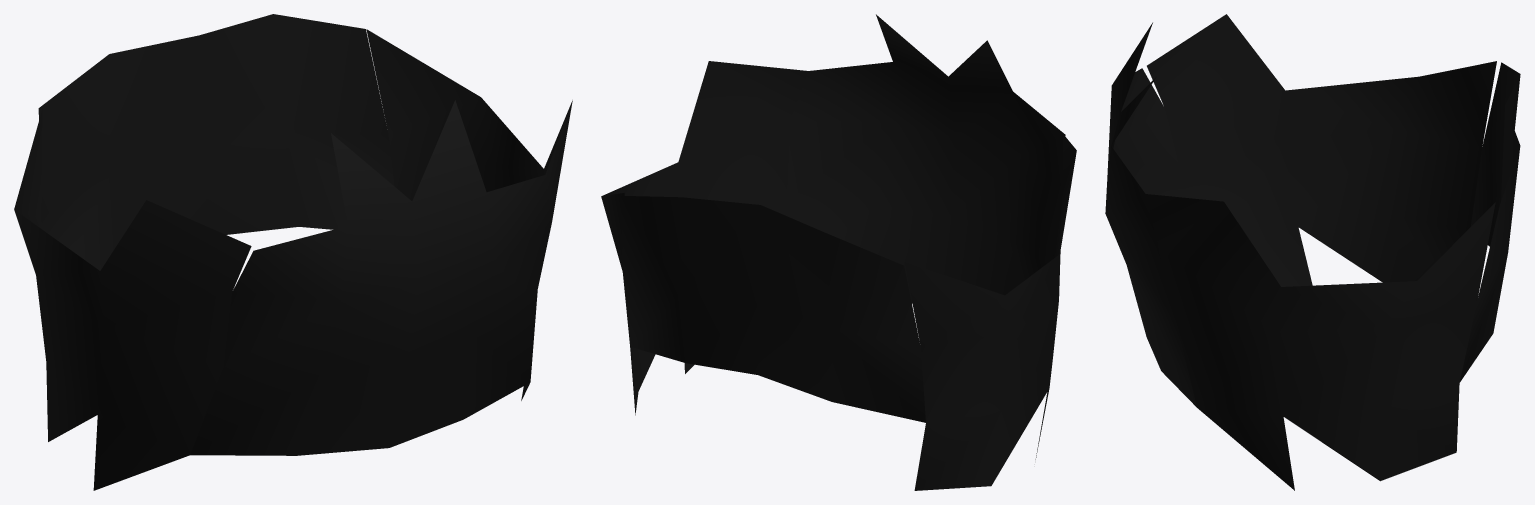
The model's file is spine1.glb.
3 views of the same model, side by side, from view 1: azimuth 30°, elevation 25°; view 2: azimuth 150°, elevation 25°; view 3: azimuth 270°, elevation 25° (orthographic). The views are drawn at different scales.
Visible parts, largest first — view 1: sweater-black_SPINE1; view 2: sweater-black_SPINE1; view 3: sweater-black_SPINE1.
Part boxes in pixels (left/top/right/bottom): sweater-black_SPINE1: left=14, top=14, right=572, bottom=490; sweater-black_SPINE1: left=601, top=14, right=1076, bottom=490; sweater-black_SPINE1: left=1105, top=14, right=1520, bottom=490.
Size of the model in its own units: 0.376 by 0.3033 by 0.3237.
1 material, 1 textured.
